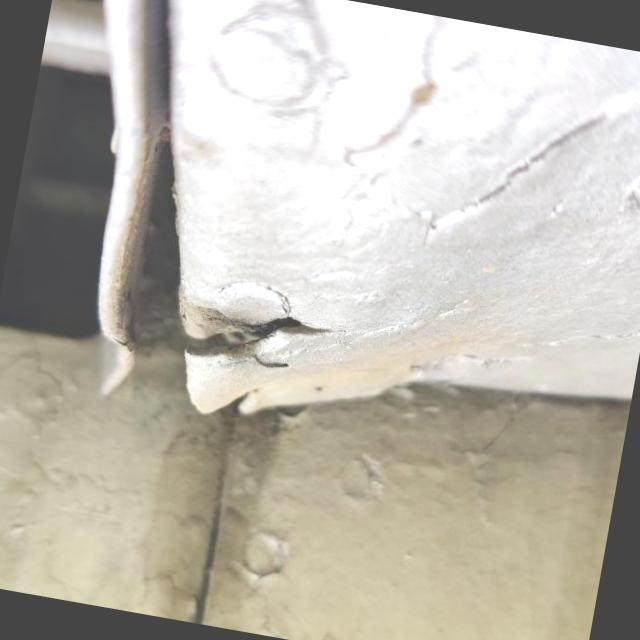crack: (162, 286, 353, 403)
